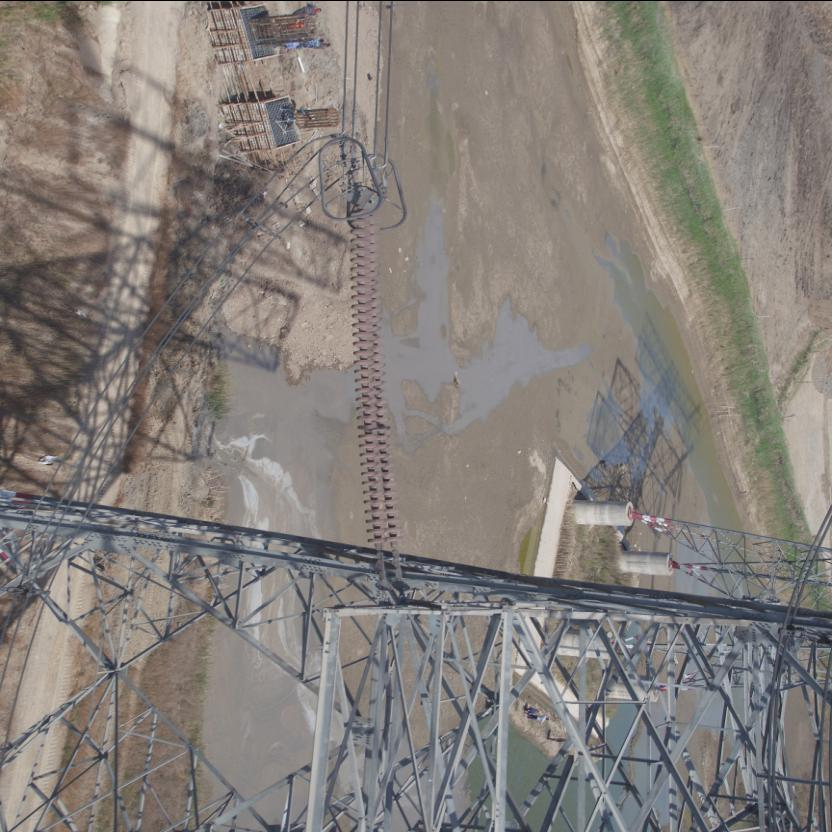insulator: (346, 193, 406, 567)
